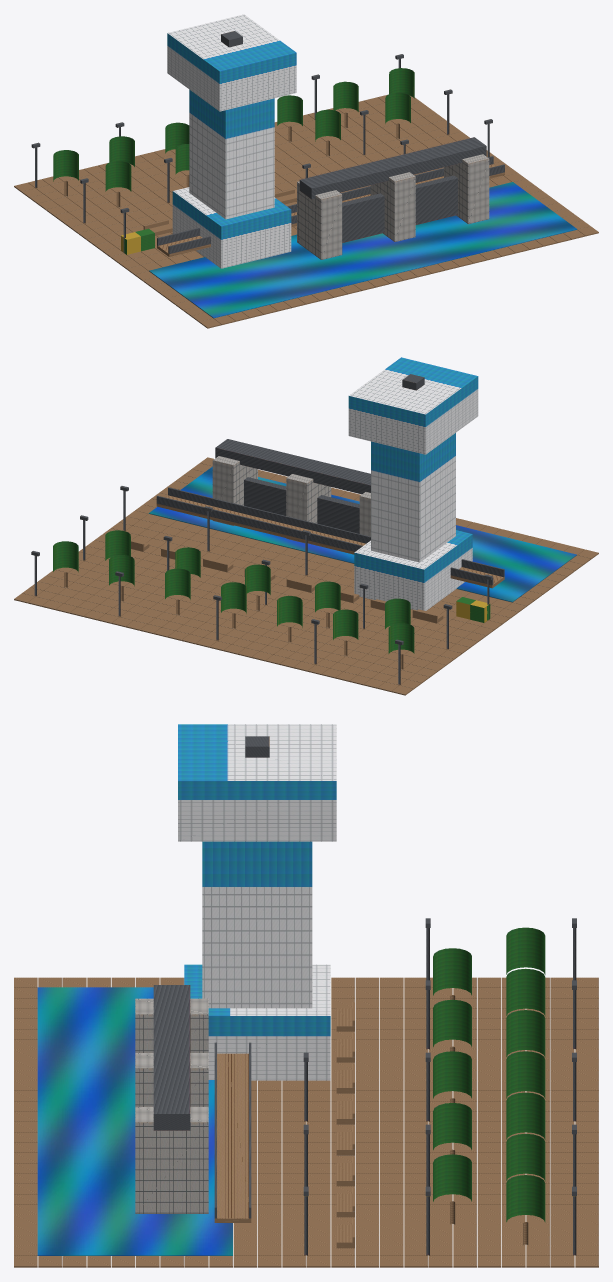
3 renders of one model, top to bottom at view 1: azimuth 30°, elevation 25°; view 2: azimuth 150°, elevation 25°; view 3: azimuth 270°, elevation 25°, orthographic. The views are drawn at different scales.
Parts seen in each view (by area): view 1: 28185_B14_Waterfront_Aam_Lake; view 2: 28185_B14_Waterfront_Aam_Lake; view 3: 28185_B14_Waterfront_Aam_Lake.
Part boxes in pixels (bbox=[...]): 28185_B14_Waterfront_Aam_Lake: bbox=[14, 14, 598, 328]; 28185_B14_Waterfront_Aam_Lake: bbox=[14, 357, 598, 695]; 28185_B14_Waterfront_Aam_Lake: bbox=[14, 724, 598, 1267].
Size of the model in its own units: 55.95 by 28.5 by 47.95.
1 material, 1 textured.
